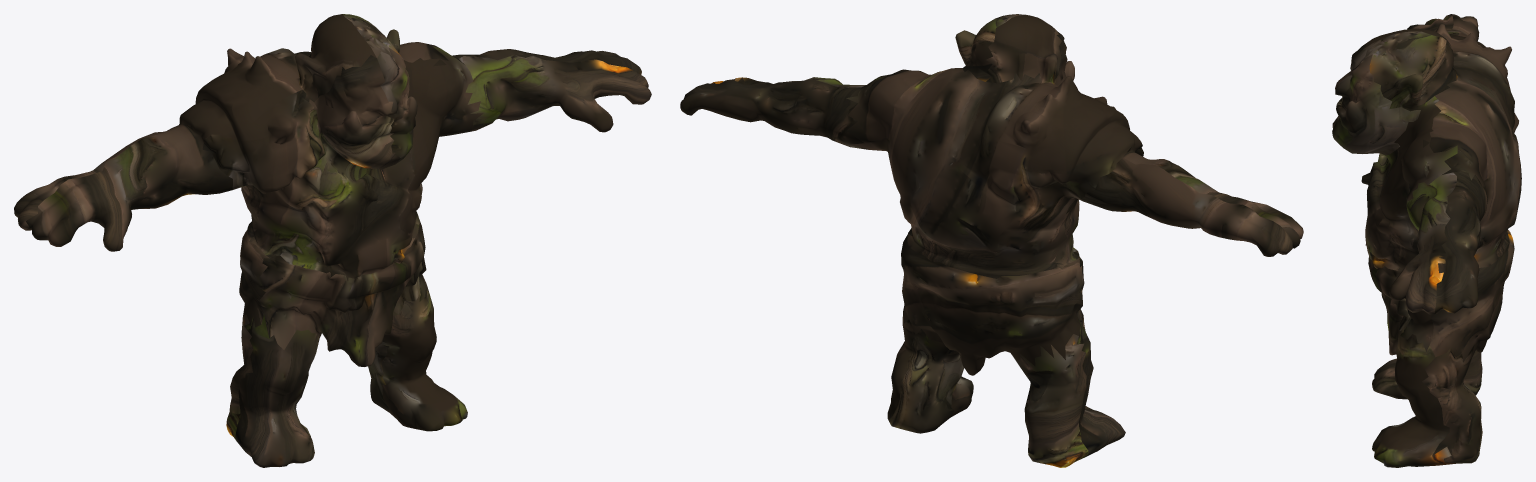
3 views of the same model, side by side, from view 1: azimuth 30°, elevation 25°; view 2: azimuth 150°, elevation 25°; view 3: azimuth 270°, elevation 25° (orthographic). The views are drawn at different scales.
Parts seen in each view (by area): view 1: UE_Retopo_LOD1; view 2: UE_Retopo_LOD1; view 3: UE_Retopo_LOD1.
Boxes of the visible parts, x1,y1,x2,y2 form: UE_Retopo_LOD1: (14,14,651,467); UE_Retopo_LOD1: (680,14,1303,467); UE_Retopo_LOD1: (1332,14,1521,467).
Bounding box in the file's own units: 3.02 × 1.92 × 0.8488.
